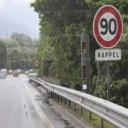speed_limit_90: (93, 5, 123, 48)
